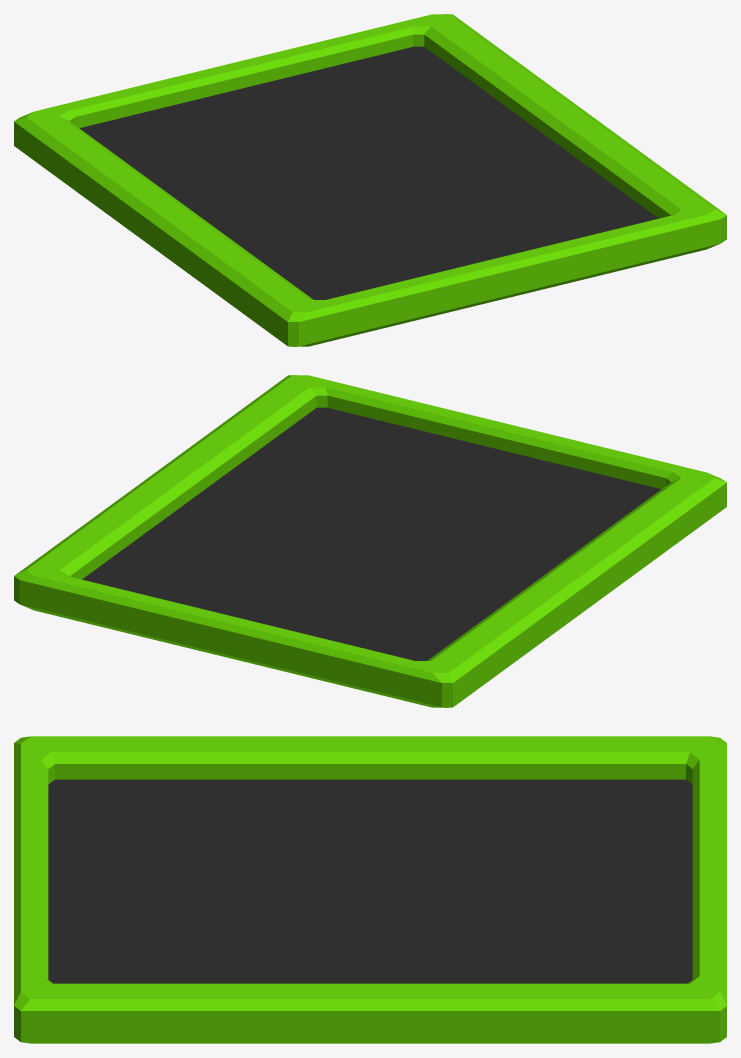
The model's file is mirror.FBX.
3 renders of one model, top to bottom at view 1: azimuth 30°, elevation 25°; view 2: azimuth 150°, elevation 25°; view 3: azimuth 270°, elevation 25°, orthographic. The views are drawn at different scales.
Visible parts, largest first — view 1: Box001, Object001, Object003, Object004, Object002, 05; view 2: Box001, Object001, Object003, Object004, Object002, 05; view 3: Box001, Object003, Object001, Object004, Object002, 05.
Boxes of the visible parts, bbox=[...] form: Box001: bbox=[14, 14, 726, 346]; Object001: bbox=[379, 46, 658, 243]; Object003: bbox=[144, 55, 434, 195]; Object004: bbox=[256, 172, 555, 273]; Object002: bbox=[79, 112, 290, 253]; 05: bbox=[250, 240, 431, 299]; Box001: bbox=[14, 375, 726, 707]; Object001: bbox=[82, 407, 412, 591]; Object003: bbox=[131, 541, 426, 644]; Object004: bbox=[348, 425, 541, 582]; Object002: bbox=[351, 547, 579, 660]; 05: bbox=[516, 459, 661, 548]; Box001: bbox=[14, 736, 726, 1043]; Object003: bbox=[351, 827, 692, 973]; Object001: bbox=[48, 900, 692, 983]; Object004: bbox=[48, 806, 442, 949]; Object002: bbox=[247, 779, 692, 867]; 05: bbox=[48, 779, 277, 864].
Size of the model in its own units: 33.77 by 2.55 by 37.23.
